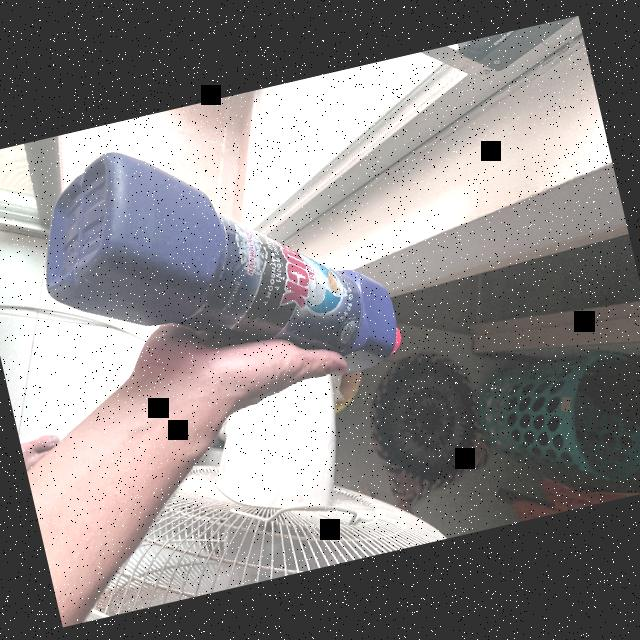toilet_cleaner: (16, 96, 416, 438)
